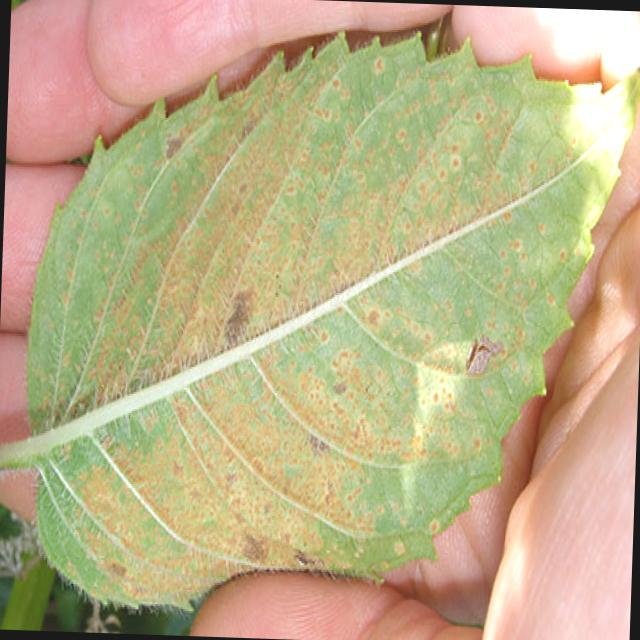leaf_rust: (0, 38, 640, 607)
